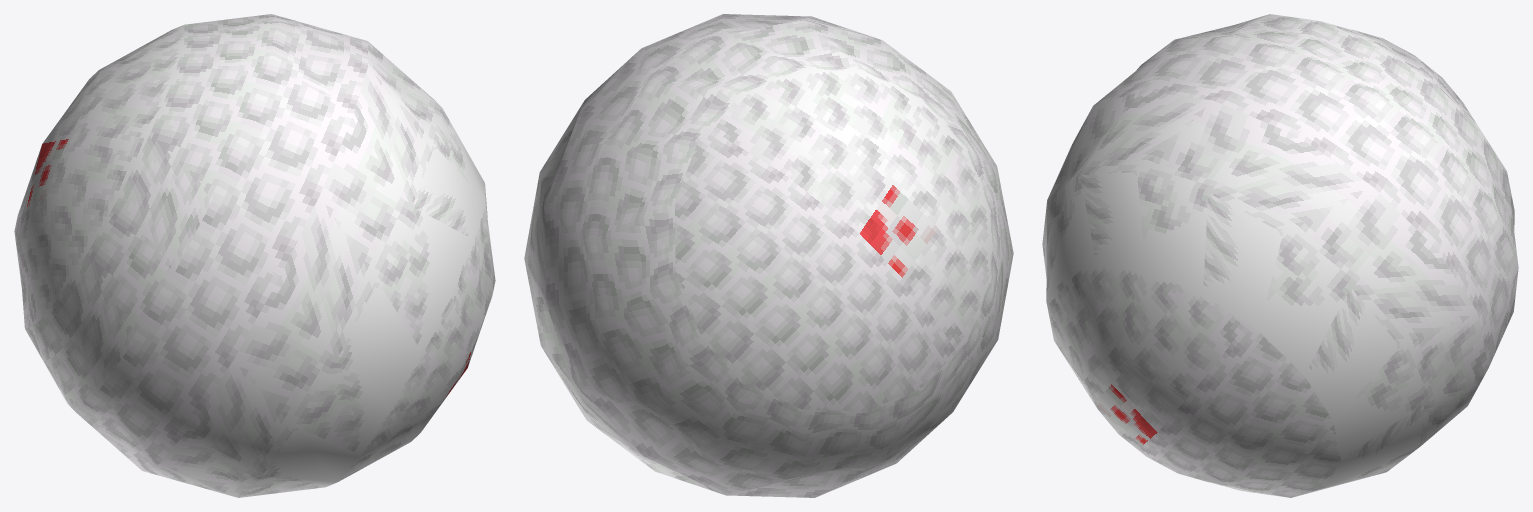
The model's file is ball5.fbx.
The picture shows the model from 3 angles, left to right: view 1: azimuth 30°, elevation 25°; view 2: azimuth 150°, elevation 25°; view 3: azimuth 270°, elevation 25°; orthographic projection.
Parts seen in each view (by area): view 1: Golf_Ball; view 2: Golf_Ball; view 3: Golf_Ball.
Part boxes in pixels (box(x1,y1,x2,y2)): Golf_Ball: box(14, 14, 495, 497); Golf_Ball: box(524, 14, 1013, 497); Golf_Ball: box(1042, 14, 1518, 497).
Size of the model in its own units: 100 by 100 by 100.
